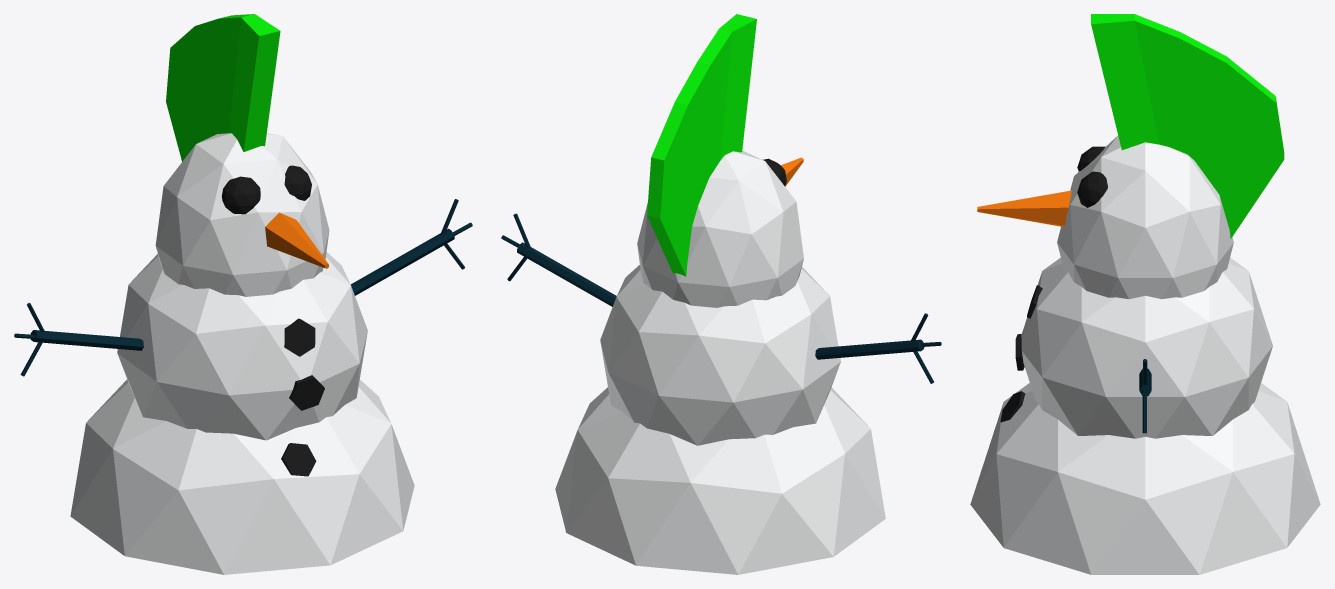
The model's file is Mesh_Snowman_Punk.glb.
3 views of the same model, side by side, from view 1: azimuth 30°, elevation 25°; view 2: azimuth 150°, elevation 25°; view 3: azimuth 270°, elevation 25° (orthographic). The views are drawn at different scales.
Parts seen in each view (by area): view 1: Mesh_Snowman_Punk; view 2: Mesh_Snowman_Punk; view 3: Mesh_Snowman_Punk.
Part boxes in pixels (x1,y1,x2,y2): Mesh_Snowman_Punk: (14, 14, 472, 574); Mesh_Snowman_Punk: (501, 14, 941, 574); Mesh_Snowman_Punk: (970, 14, 1320, 574).
Size of the model in its own units: 1.07 by 1.1 by 0.7142.
Materials: 1 (1 with a texture image).
